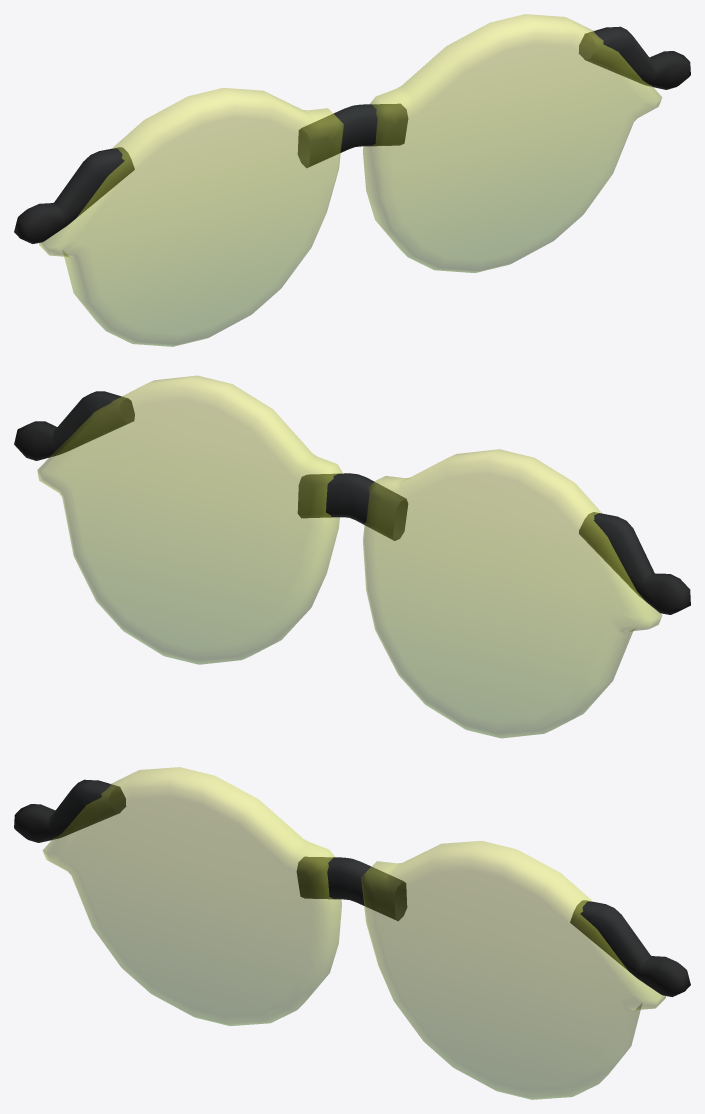
File: Glasses_05.glb
3 views of the same model, one above another, from view 1: azimuth 30°, elevation 25°; view 2: azimuth 150°, elevation 25°; view 3: azimuth 330°, elevation 25° (orthographic).
Visible parts, largest first — view 1: Glasses_05; view 2: Glasses_05; view 3: Glasses_05.
Part boxes in pixels (x1,y1,x2,y2): Glasses_05: (14,14,690,346); Glasses_05: (14,375,690,738); Glasses_05: (14,767,690,1099).
Size of the model in its own units: 0.5372 by 0.2 by 0.0546.
Materials: 2 (2 with a texture image).
